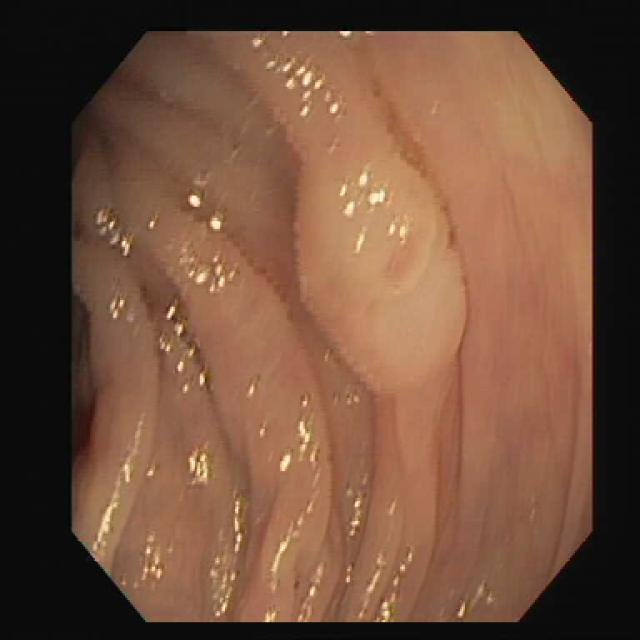tumor: (297, 122, 465, 391)
